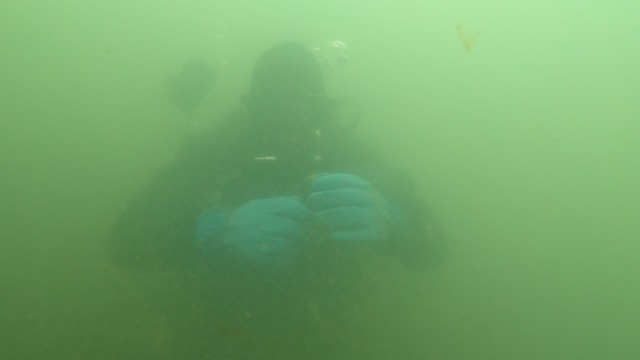Diver: (72, 22, 497, 352)
Hand: (186, 191, 309, 269), (307, 173, 407, 263)
Head: (234, 38, 341, 181)
